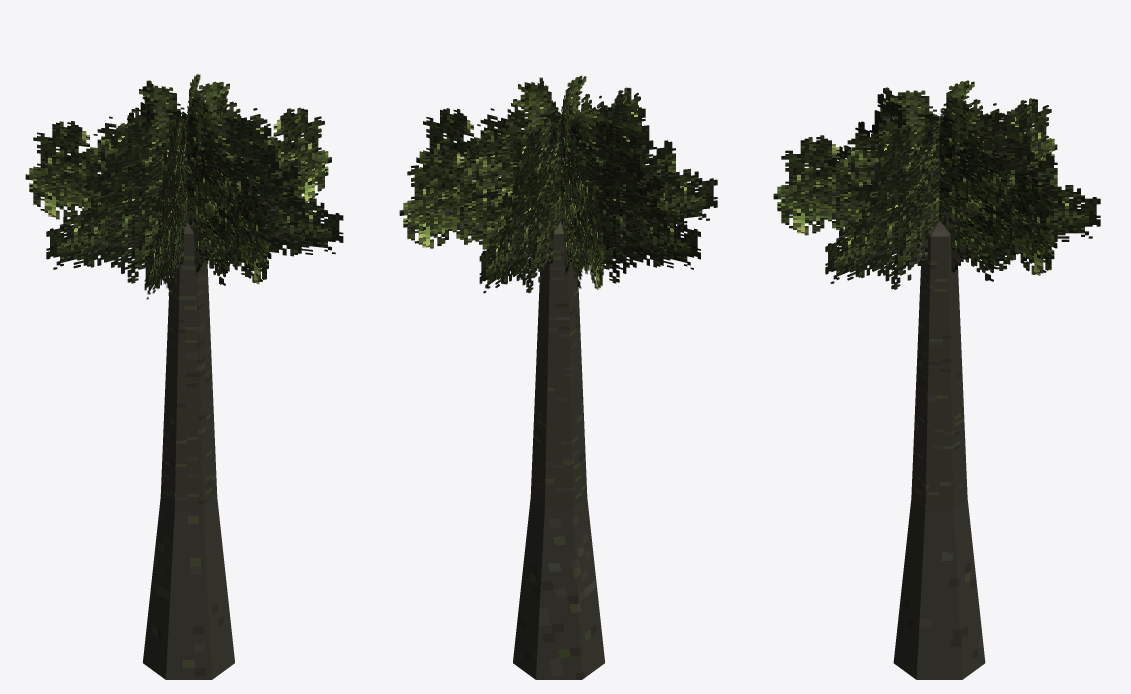
Rendered from tree26.glb.
3 renders of one model, left to right at view 1: azimuth 30°, elevation 25°; view 2: azimuth 150°, elevation 25°; view 3: azimuth 270°, elevation 25°, orthographic.
Parts seen in each view (by area): view 1: tree26; view 2: tree26; view 3: tree26.
Boxes of the visible parts, x1,y1,x2,y2 form: tree26: [25, 74, 343, 679]; tree26: [399, 75, 717, 679]; tree26: [773, 80, 1100, 679].
Size of the model in its own units: 4.99 by 8.9 by 4.99.
Materials: 1 (1 with a texture image).
